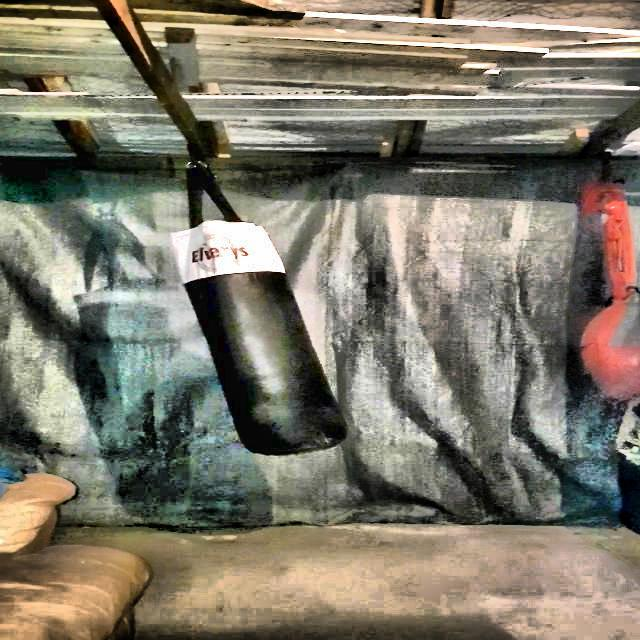boxing-bag: (175, 142, 357, 458)
